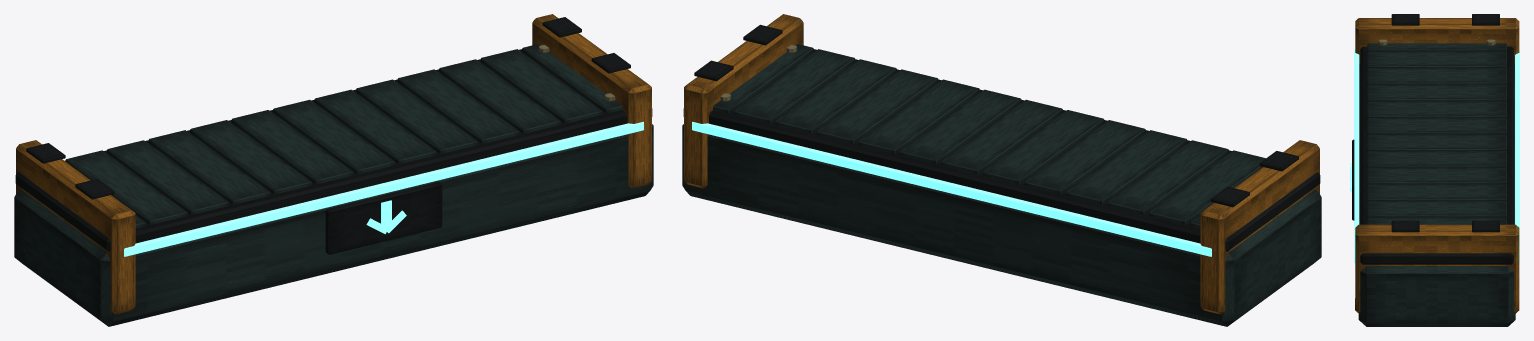
Rendered from THStage_ExtractionLift.fbx.
3 renders of one model, left to right at view 1: azimuth 30°, elevation 25°; view 2: azimuth 150°, elevation 25°; view 3: azimuth 270°, elevation 25°, orthographic. The views are drawn at different scales.
Parts seen in each view (by area): view 1: THStage_ExtractionLift.010; view 2: THStage_ExtractionLift.010; view 3: THStage_ExtractionLift.010.
Boxes of the visible parts, bbox=[...] form: THStage_ExtractionLift.010: bbox=[14, 14, 653, 326]; THStage_ExtractionLift.010: bbox=[682, 14, 1321, 326]; THStage_ExtractionLift.010: bbox=[1350, 14, 1519, 326].
Size of the model in its own units: 3 by 0.619 by 0.9735.
Materials: 2 (1 with a texture image).
